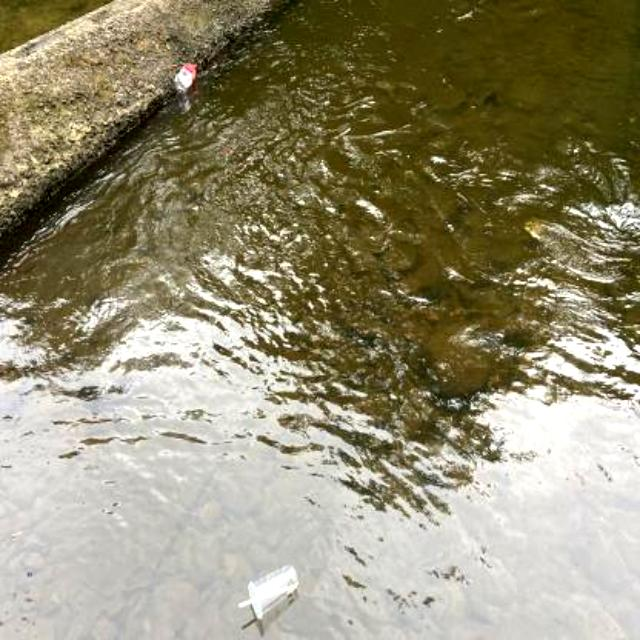Plastic: (235, 562, 299, 622), (172, 60, 200, 94)
